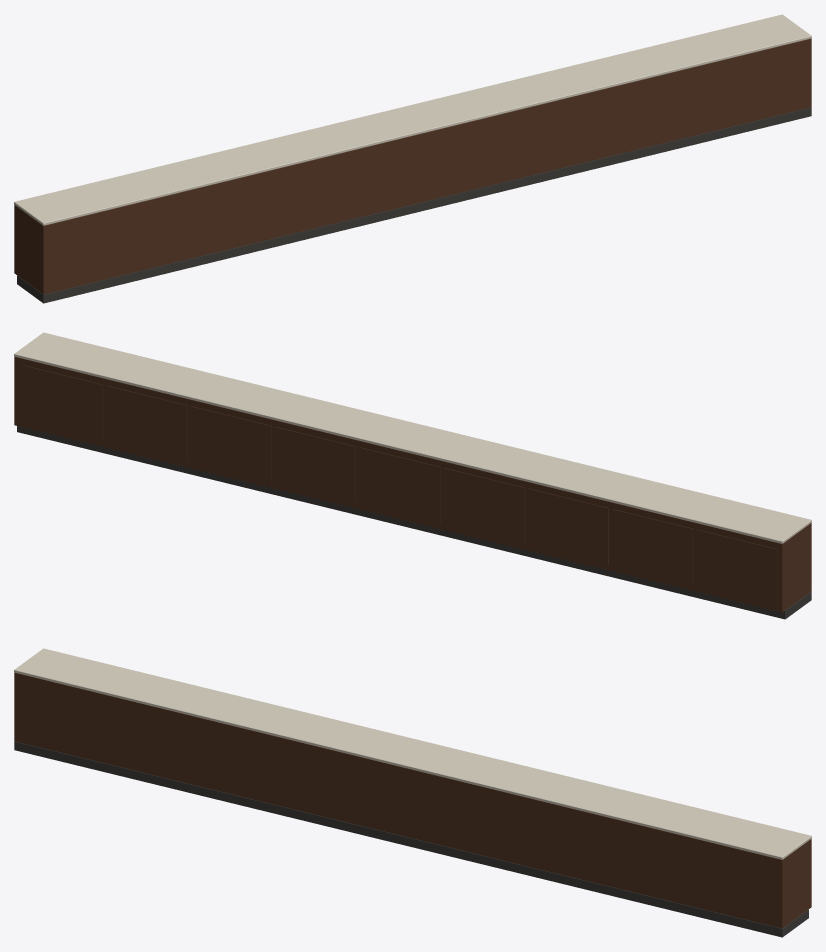
File: prop_of_booth_counter_w900.glb
The picture shows the model from 3 angles, top to bottom: view 1: azimuth 30°, elevation 25°; view 2: azimuth 150°, elevation 25°; view 3: azimuth 330°, elevation 25°; orthographic projection.
Visible parts, largest first — view 1: Counter; view 2: Counter; view 3: Counter.
Boxes of the visible parts, x1,y1,x2,y2 form: Counter: [14, 14, 811, 303]; Counter: [14, 332, 811, 619]; Counter: [14, 648, 811, 937].
Size of what is drawn, in the model's own units: 9 by 0.9 by 0.604.
